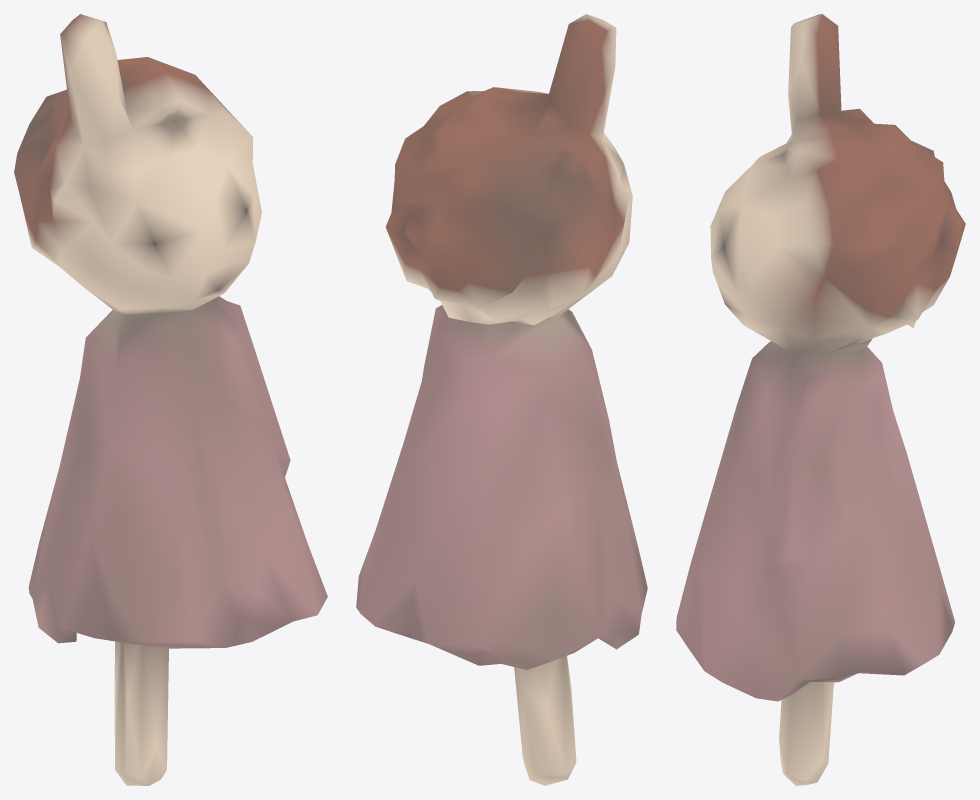
File: girl_doll_glow.glb
The picture shows the model from 3 angles, left to right: view 1: azimuth 30°, elevation 25°; view 2: azimuth 150°, elevation 25°; view 3: azimuth 270°, elevation 25°; orthographic projection. The views are drawn at different scales.
Visible parts, largest first — view 1: girl_doll; view 2: girl_doll; view 3: girl_doll.
Boxes of the visible parts, x1,y1,x2,y2 form: girl_doll: (14,14,327,785); girl_doll: (356,14,647,785); girl_doll: (676,14,965,785).
Bounding box in the file's own units: 0.1148 × 0.3342 × 0.1175.
